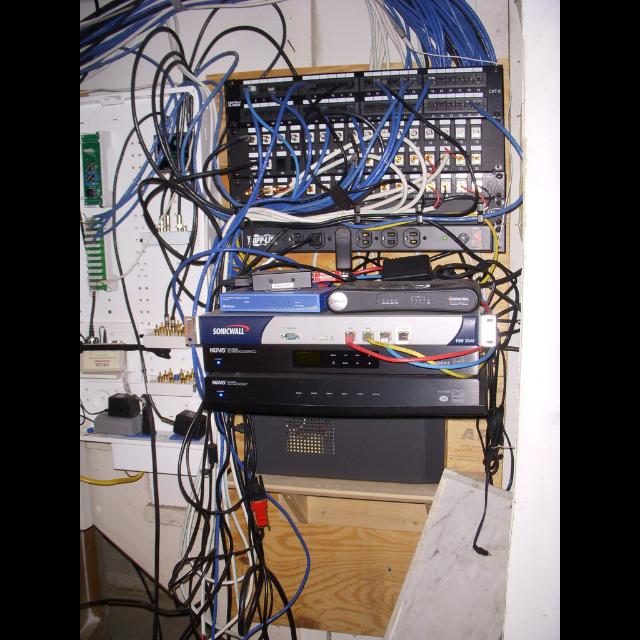Server: (212, 66, 510, 437)
